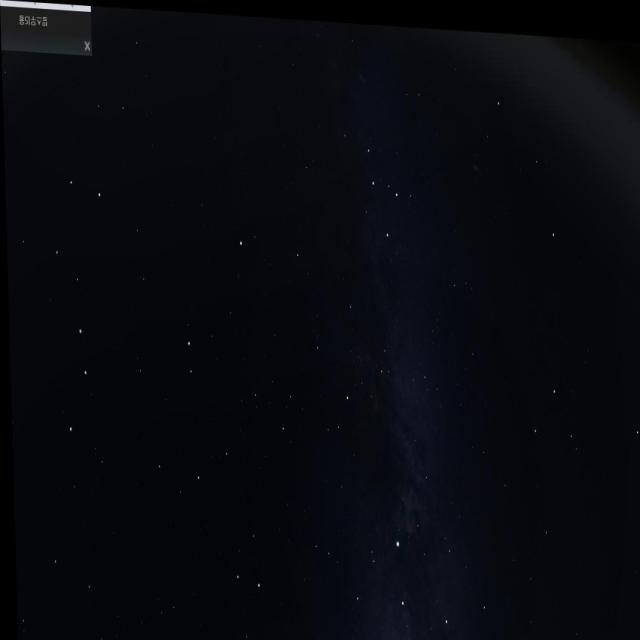cassiopeia: (322, 119, 432, 258)
cygnus: (340, 514, 450, 640)
ursa_major: (44, 166, 114, 457)
